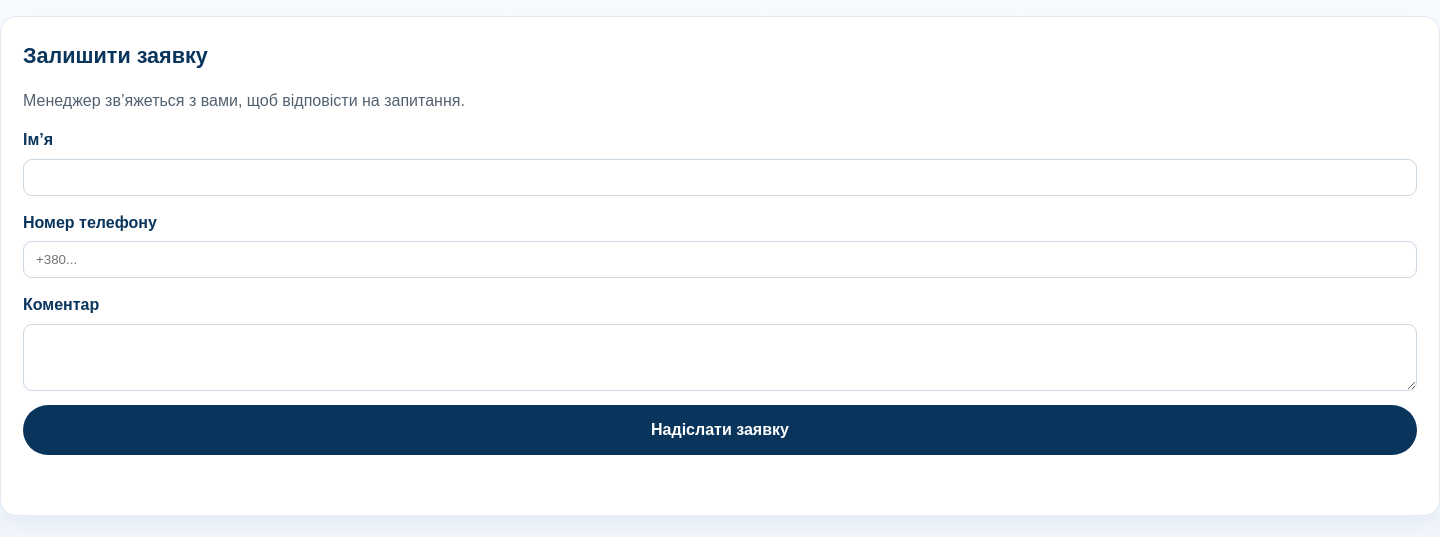
it: ApplicationForm › sends a valid application to the API and shows confirmation
The image size is (1440, 537).
Type "Олена" into the field labelled "Ім’я" at (720, 177), box top-left (23, 159), bottom-right (1417, 196)
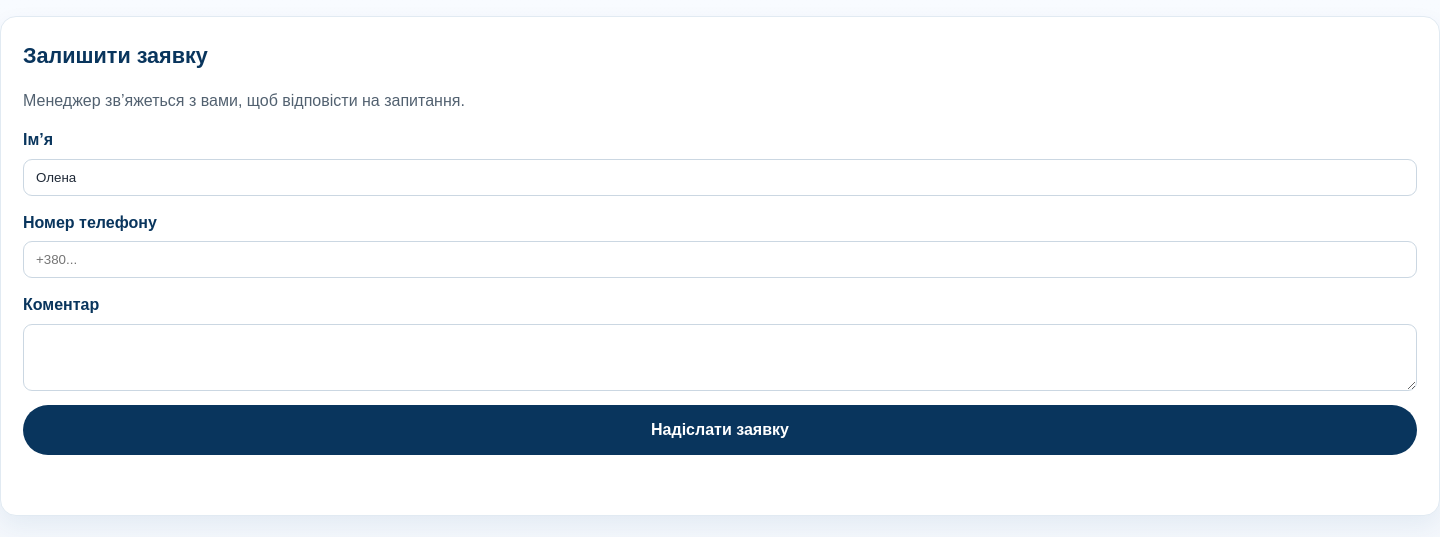
Type "+380501234567" into the field labelled "Номер телефону" at (720, 260), box top-left (23, 241), bottom-right (1417, 278)
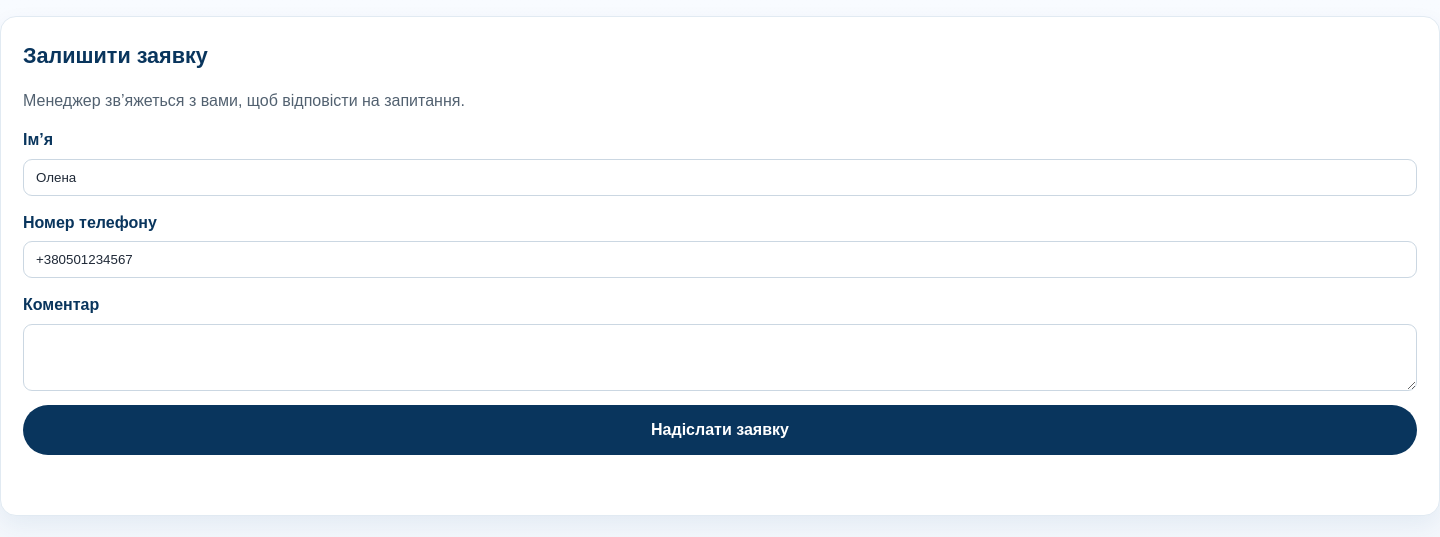
Click the button "Надіслати заявку" at (720, 430), box top-left (23, 405), bottom-right (1417, 454)
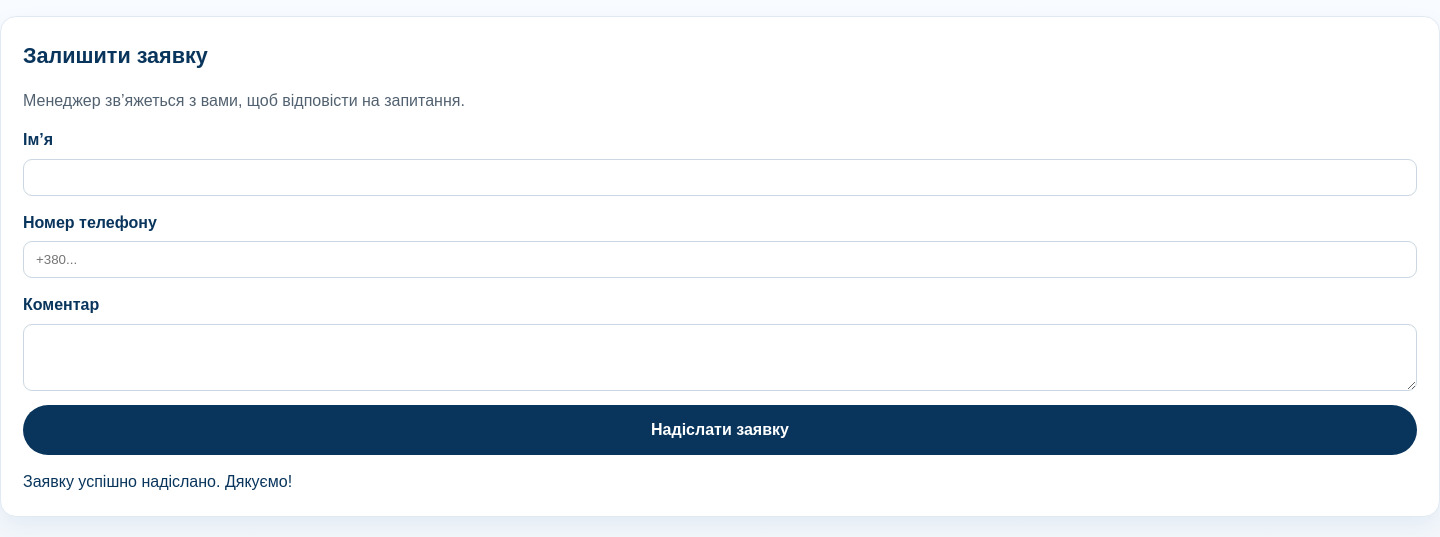
Check: the text "Заявку успішно надіслано. Дякуємо!" is shown, box top-left (23, 472), bottom-right (292, 490)
